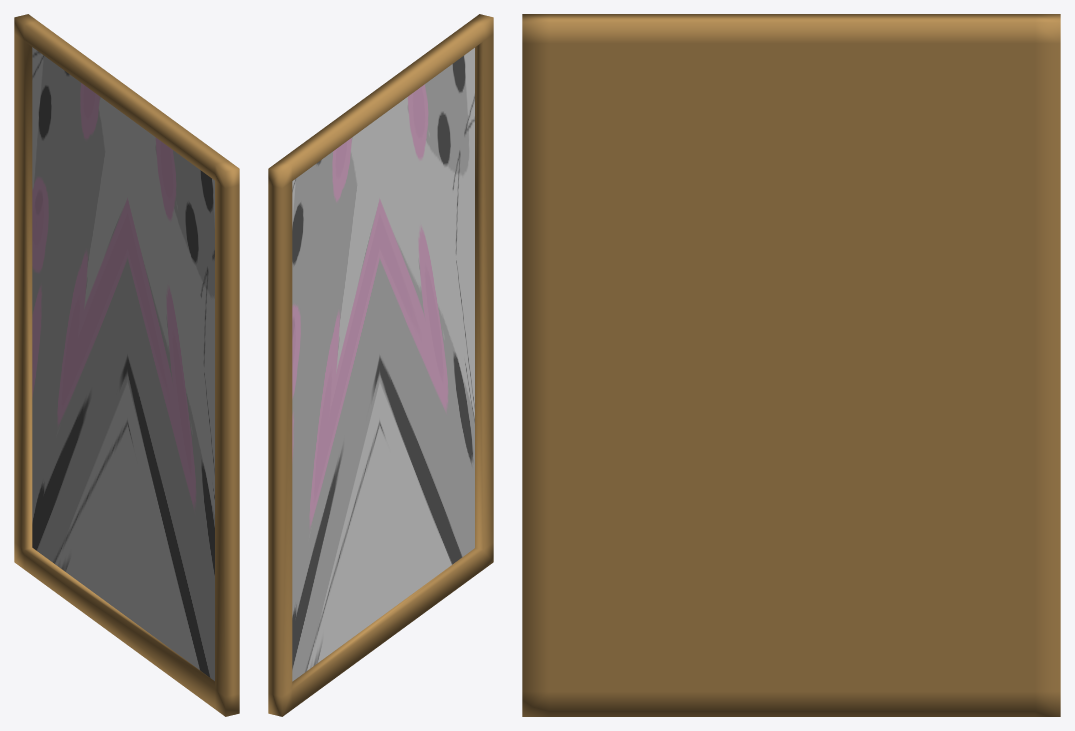
The model's file is cadre_01.fbx.
3 views of the same model, side by side, from view 1: azimuth 30°, elevation 25°; view 2: azimuth 150°, elevation 25°; view 3: azimuth 270°, elevation 25° (orthographic). The views are drawn at different scales.
Parts seen in each view (by area): view 1: cadre; view 2: cadre; view 3: cadre.
Boxes of the visible parts, <box> form: cadre: <box>14,14,239,716</box>; cadre: <box>268,14,493,716</box>; cadre: <box>522,14,1060,716</box>.
Bounding box in the file's own units: 0.2255 × 8.32 × 5.85.
